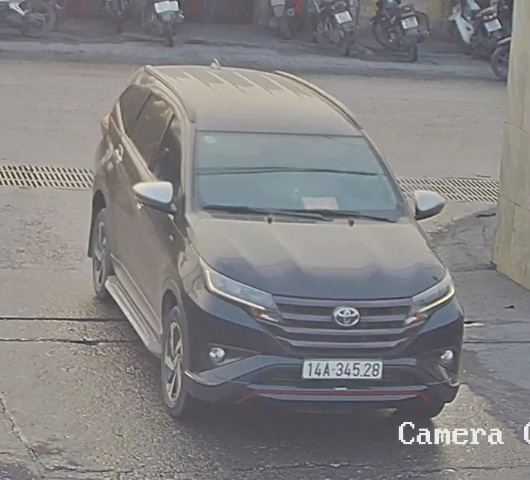vehicle plate: (299, 352, 389, 384)
